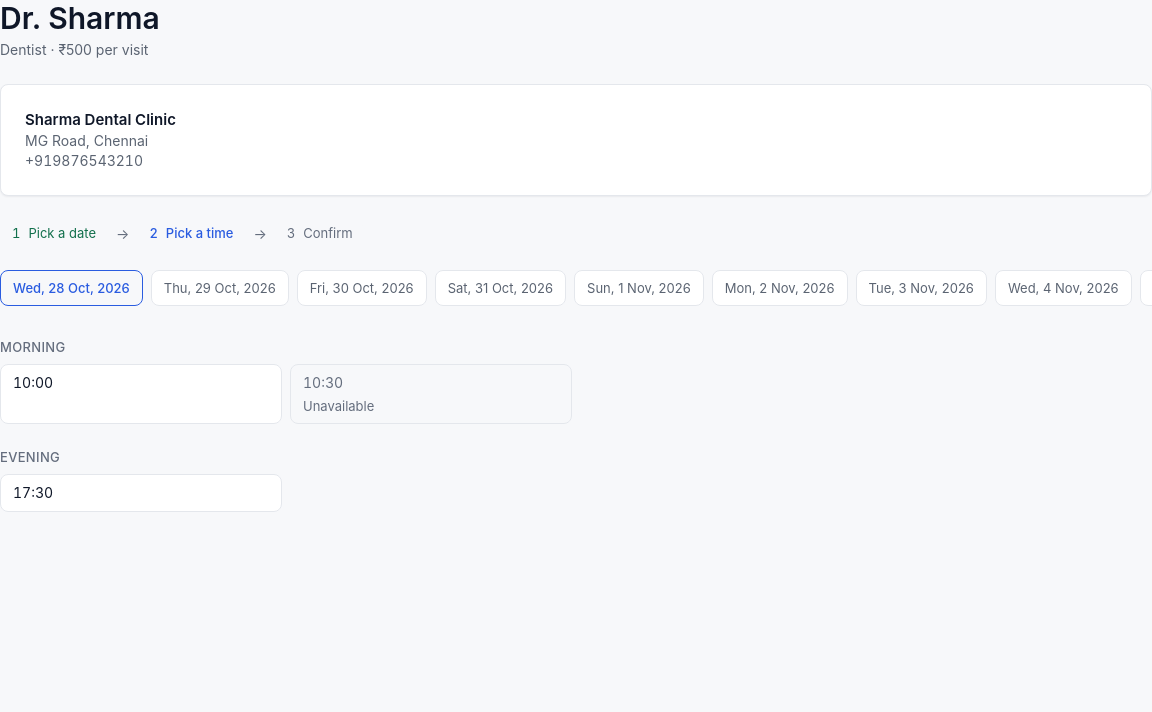
Test: DoctorDetailPage › clears the selection when the patient switches date
Click the button "10:00".
click(33, 382)  # box 0,364 -> 282,424
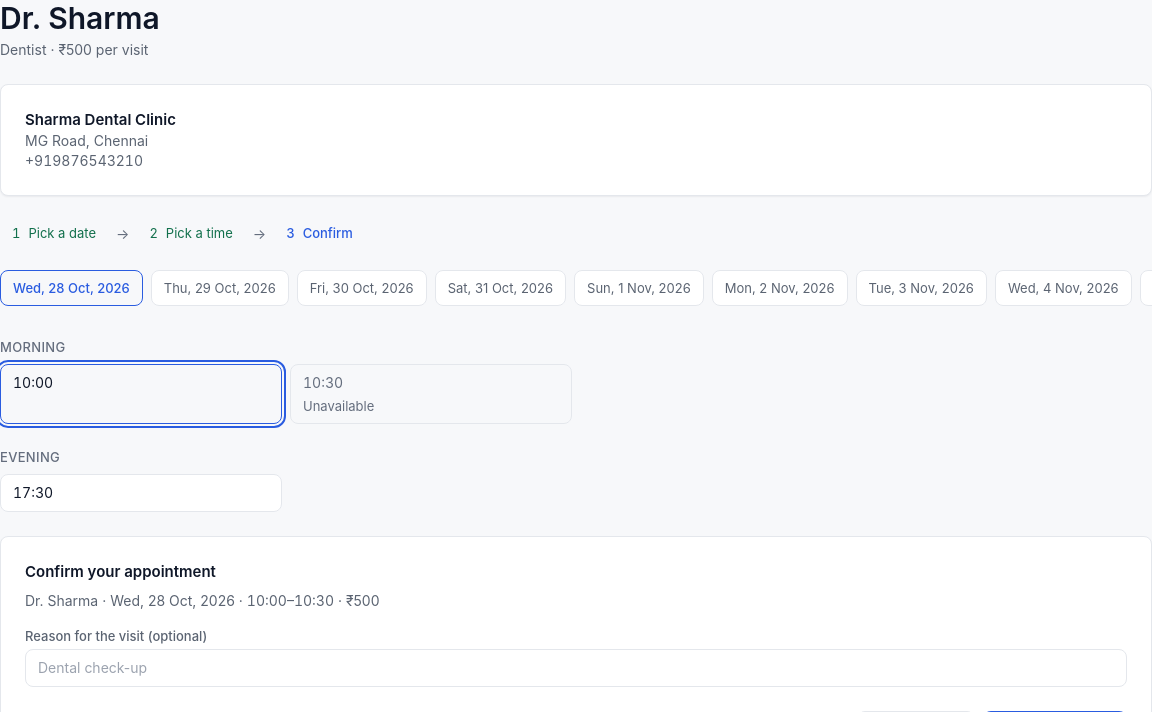
expect the heading "Confirm your appointment" is shown: met, box 25,562 -> 216,581
Click the tab "Thu, 29 Oct, 2026".
click(220, 288)  # box 151,270 -> 289,306
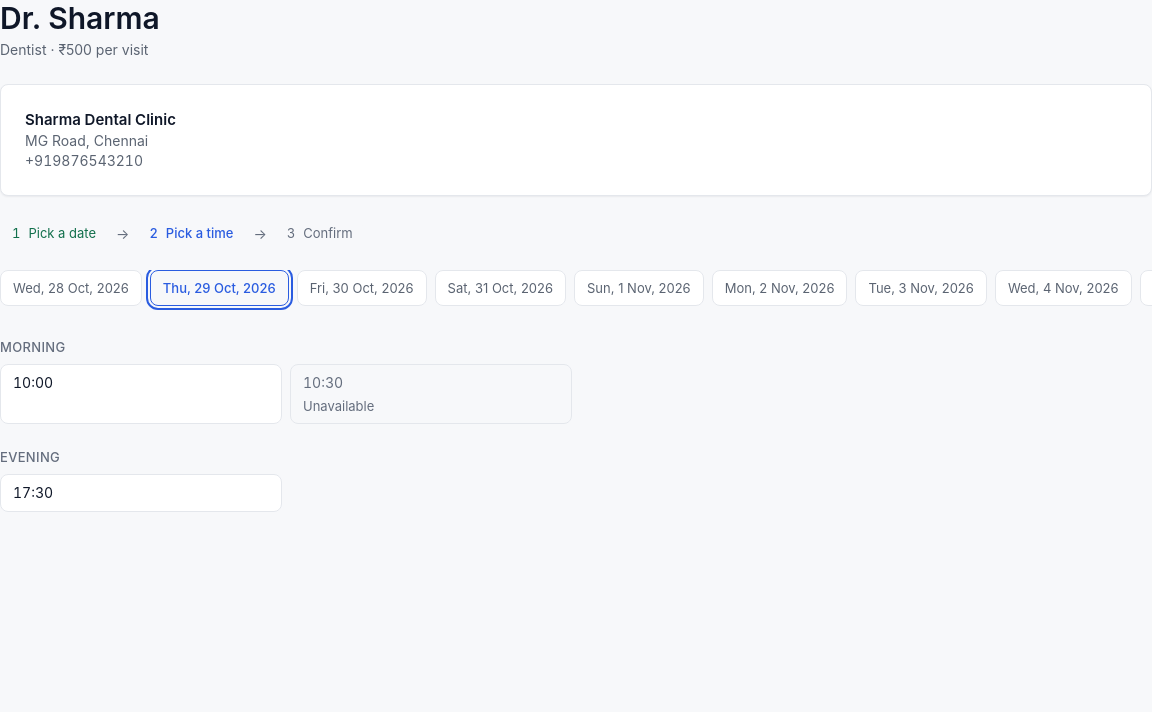
expect the heading "Confirm your appointment" is gone: met
